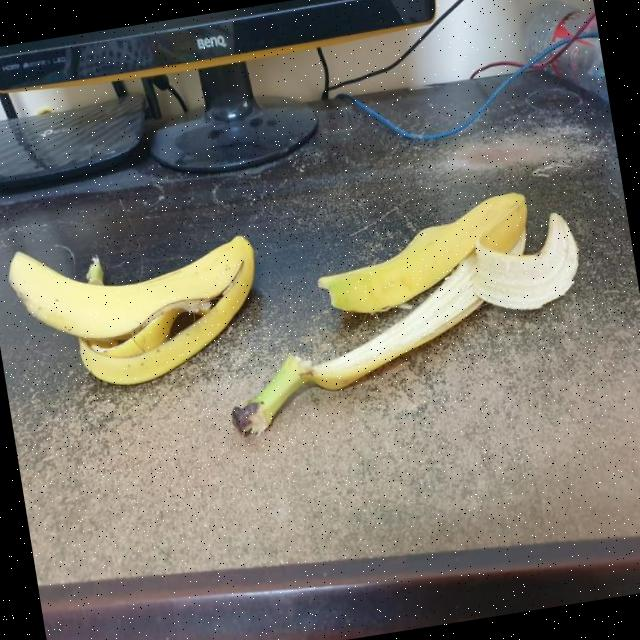banana-peel: (205, 190, 599, 438), (2, 212, 272, 402), (306, 188, 540, 322)
